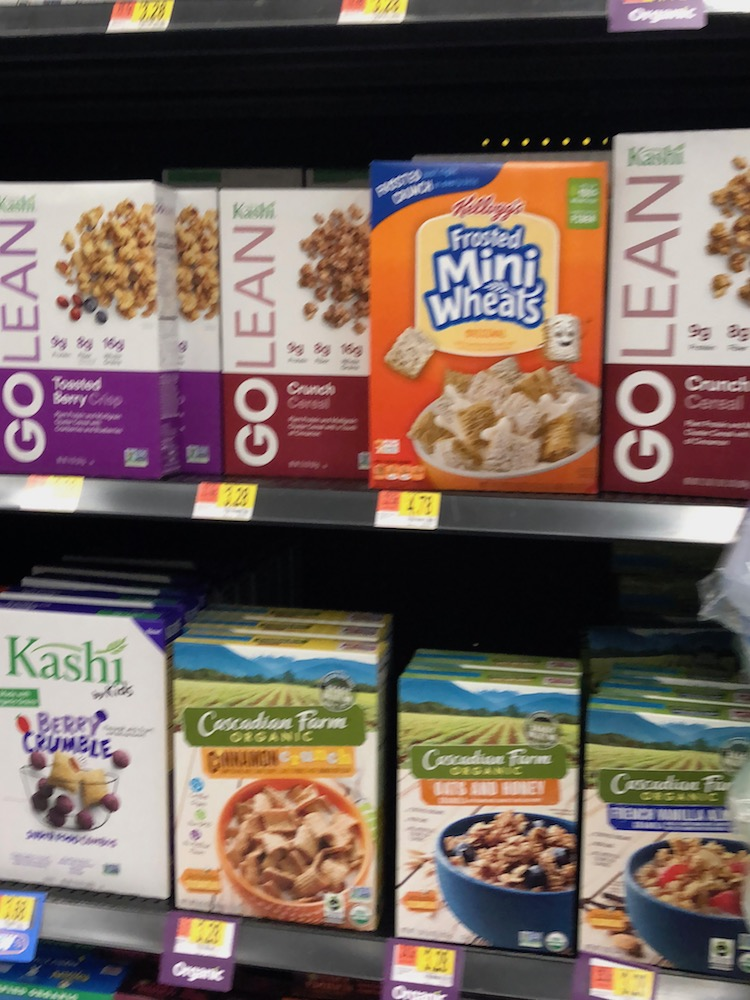Frosted Mini Original -9295869: (364, 153, 605, 490)
